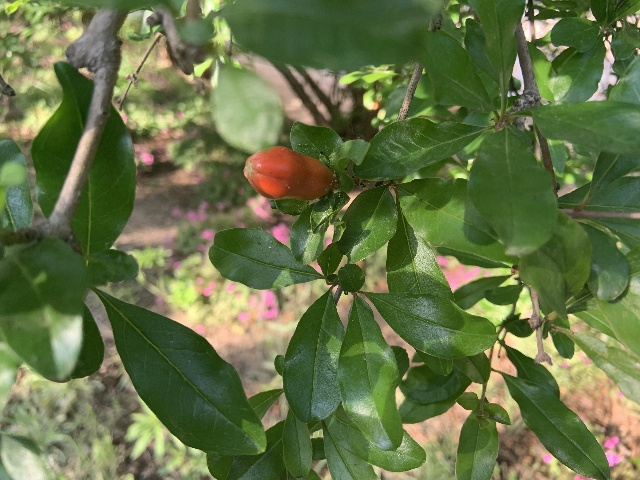bud: (243, 146, 334, 200)
